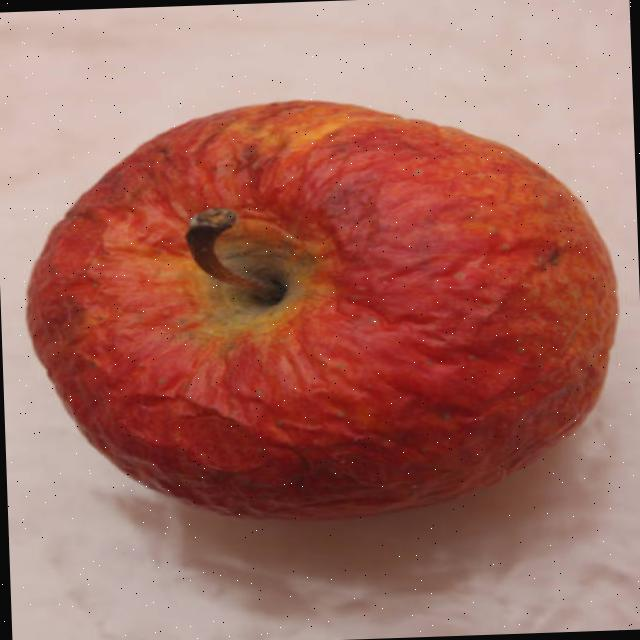overripe: (15, 82, 632, 535)
